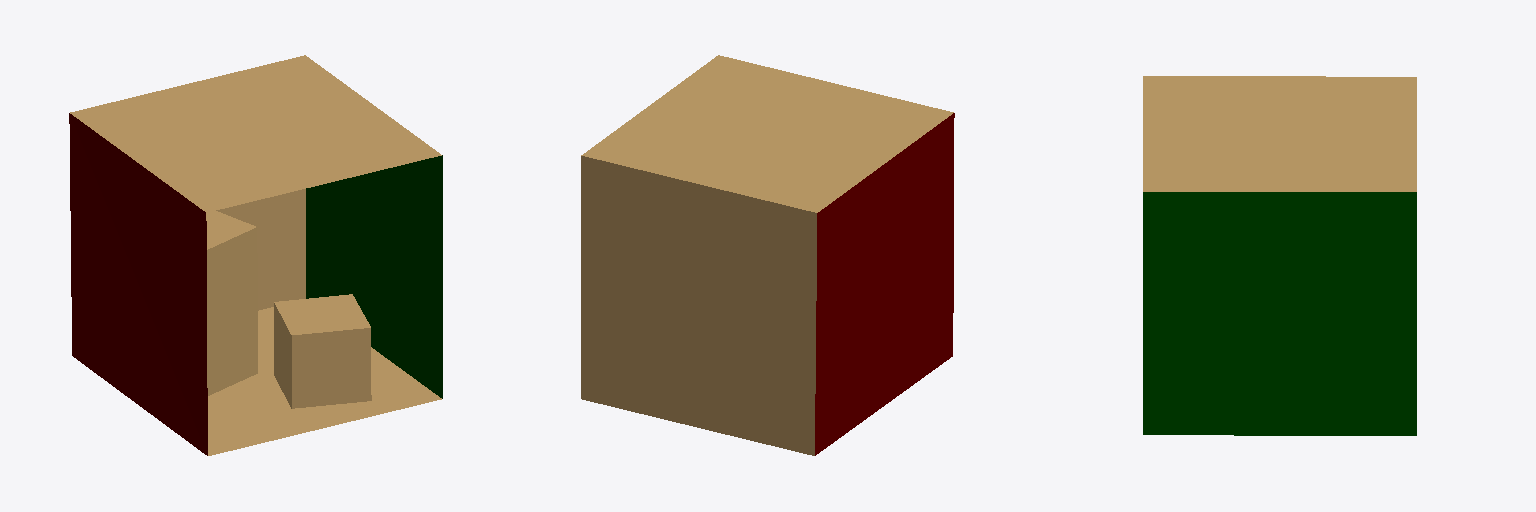
Rendered from Cornell3.obj.
3 renders of one model, left to right at view 1: azimuth 30°, elevation 25°; view 2: azimuth 150°, elevation 25°; view 3: azimuth 270°, elevation 25°, orthographic.
Parts seen in each view (by area): view 1: left_wall, ceiling, right_wall, floor, short_box, tall_box, back_wall; view 2: back_wall, left_wall, ceiling; view 3: right_wall, ceiling.
Part boxes in pixels (bbox=[...]): left_wall: bbox=[69, 113, 207, 455]; ceiling: bbox=[70, 55, 441, 212]; right_wall: bbox=[306, 155, 442, 398]; floor: bbox=[208, 307, 441, 455]; short_box: bbox=[274, 294, 371, 408]; tall_box: bbox=[206, 211, 257, 395]; back_wall: bbox=[216, 189, 305, 310]; back_wall: bbox=[581, 156, 816, 455]; left_wall: bbox=[815, 113, 954, 455]; ceiling: bbox=[581, 55, 953, 212]; right_wall: bbox=[1143, 192, 1416, 435]; ceiling: bbox=[1143, 76, 1416, 191].
Size of the model in its own units: 5.56 by 5.49 by 5.6.